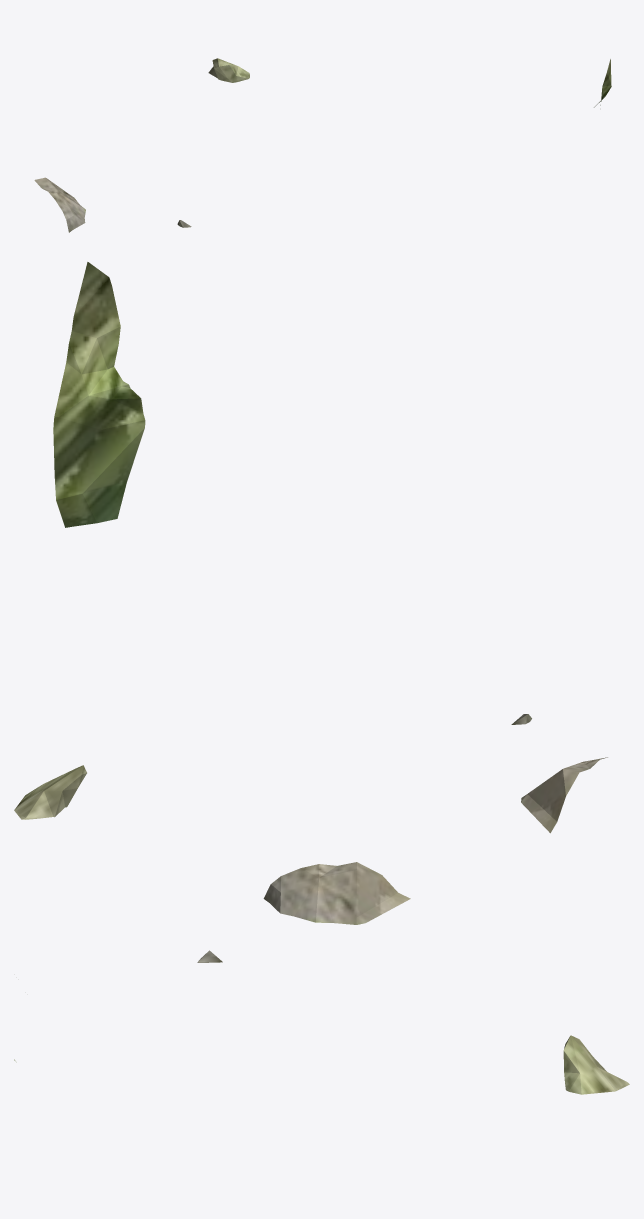
3 views of the same model, one above another, from view 1: azimuth 30°, elevation 25°; view 2: azimuth 150°, elevation 25°; view 3: azimuth 270°, elevation 25° (orthographic). The views are drawn at different scales.
Bounding box in the file's own units: 11.8 × 4.16 × 10.03.
1 material, 1 textured.
